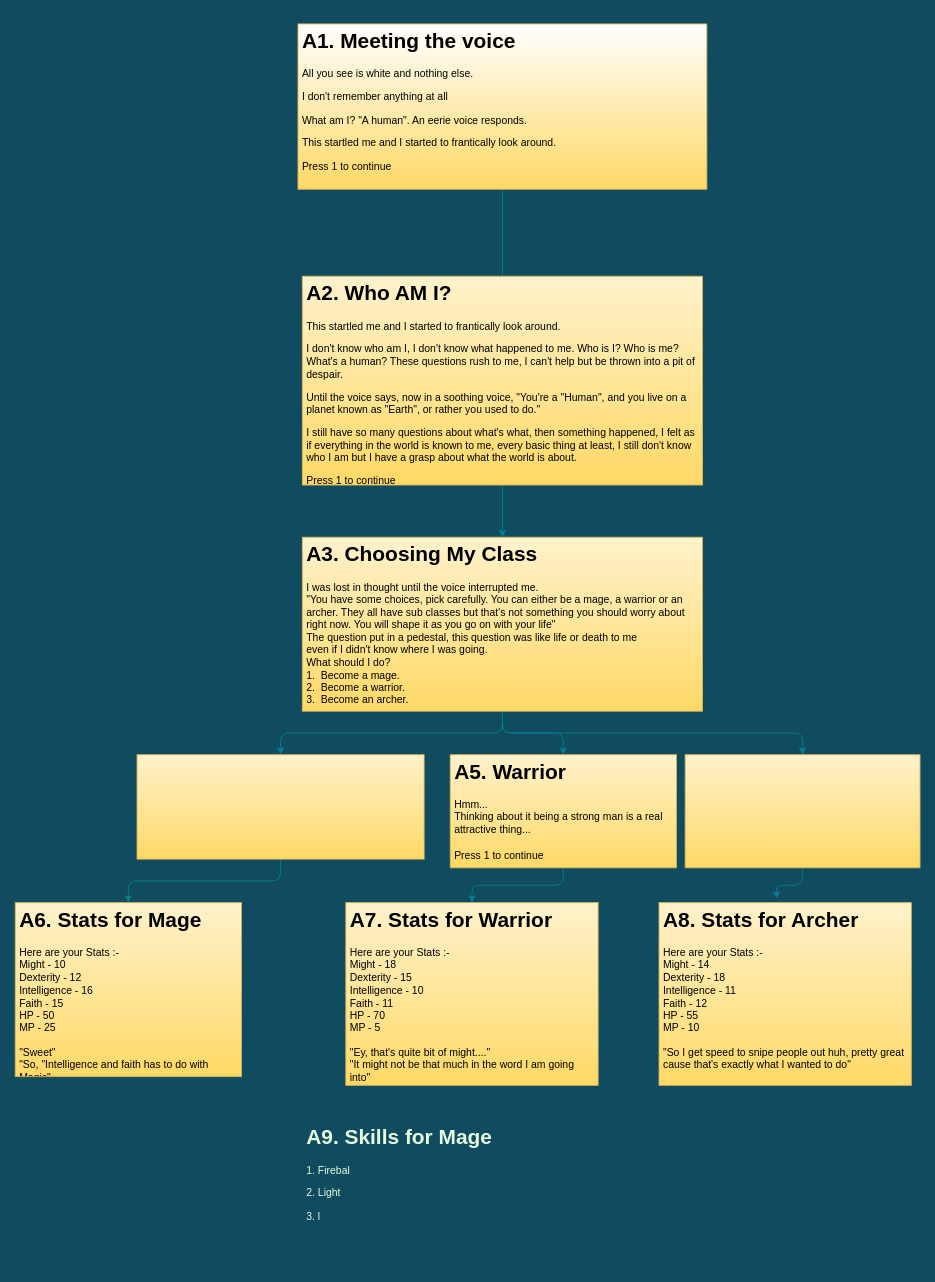
Image size: 935x1282. Some labels were removed from this diagram. Each missing label, with the centre of its shape:
A4. Mage I guess I will go with mage cause why the hell not. Press 1 to continue: (280,806)
A6. Archer Gonna go snipe some fellas out mate! Press 1 to continue: (802,811)
